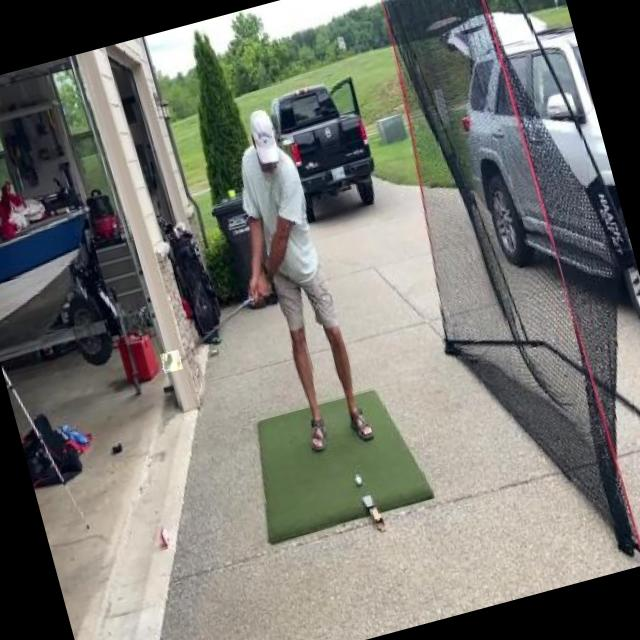club head: (159, 349, 183, 373)
